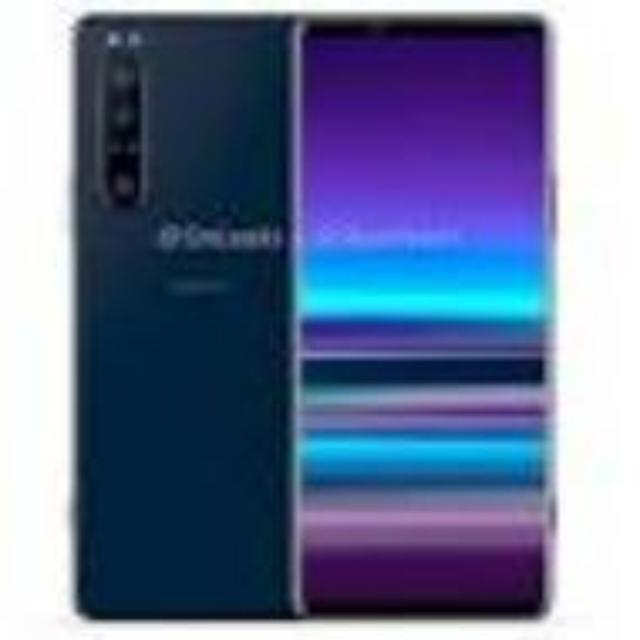Phone: (300, 14, 556, 620), (74, 16, 296, 618)
